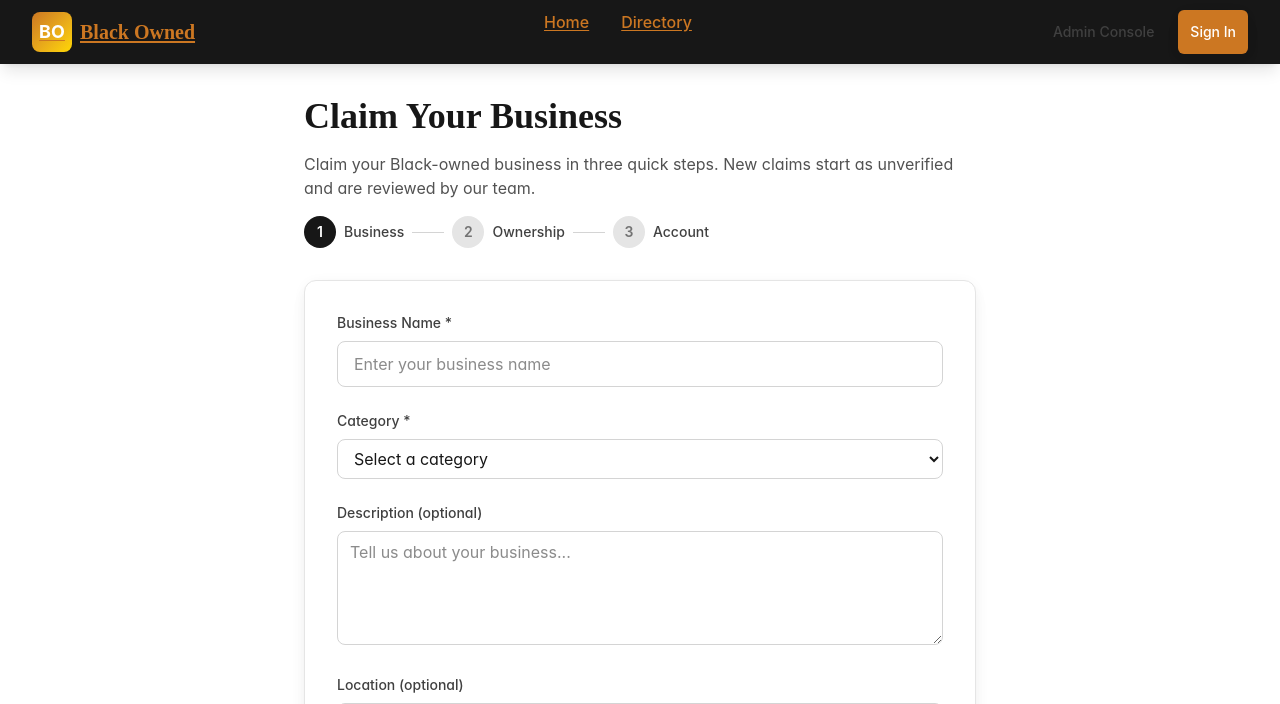
Scenario: ClaimBusinessPage › asks for an account when there is no session
Type "Soul Kitchen" into the field labelled "Business Name *" at x=640, y=364, box [337,341,943,387]
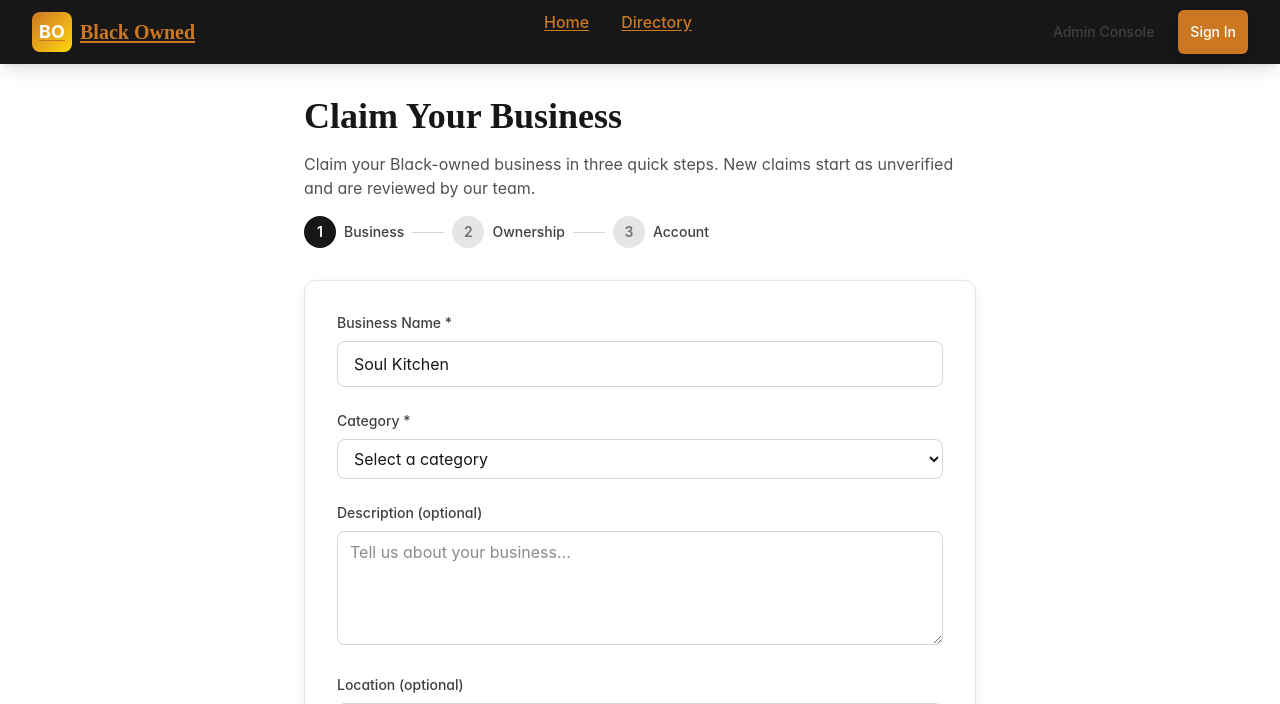
Select "Food & Dining" in the dropdown labelled "Category *" at x=640, y=459, box [337,439,943,479]
(page scrolled)
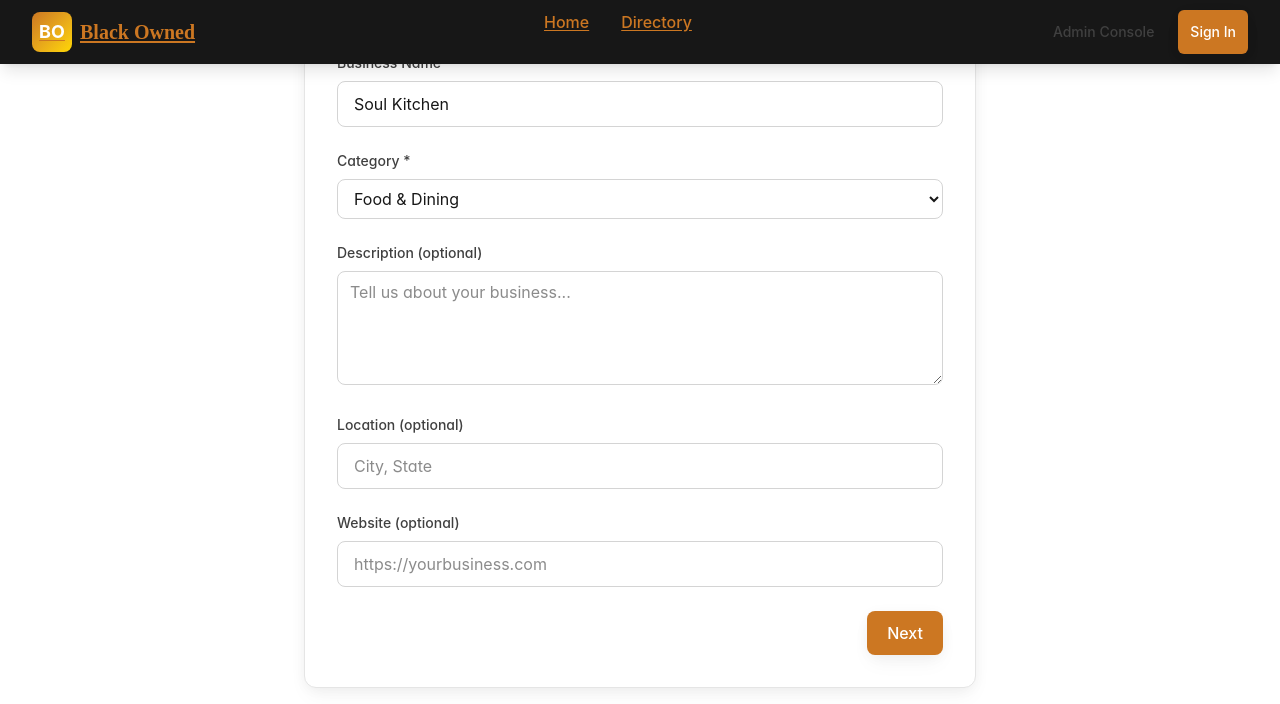
Now the button "Next" is enabled
Click the button "Next" at x=905, y=633, box [867,611,943,655]
(page scrolled)
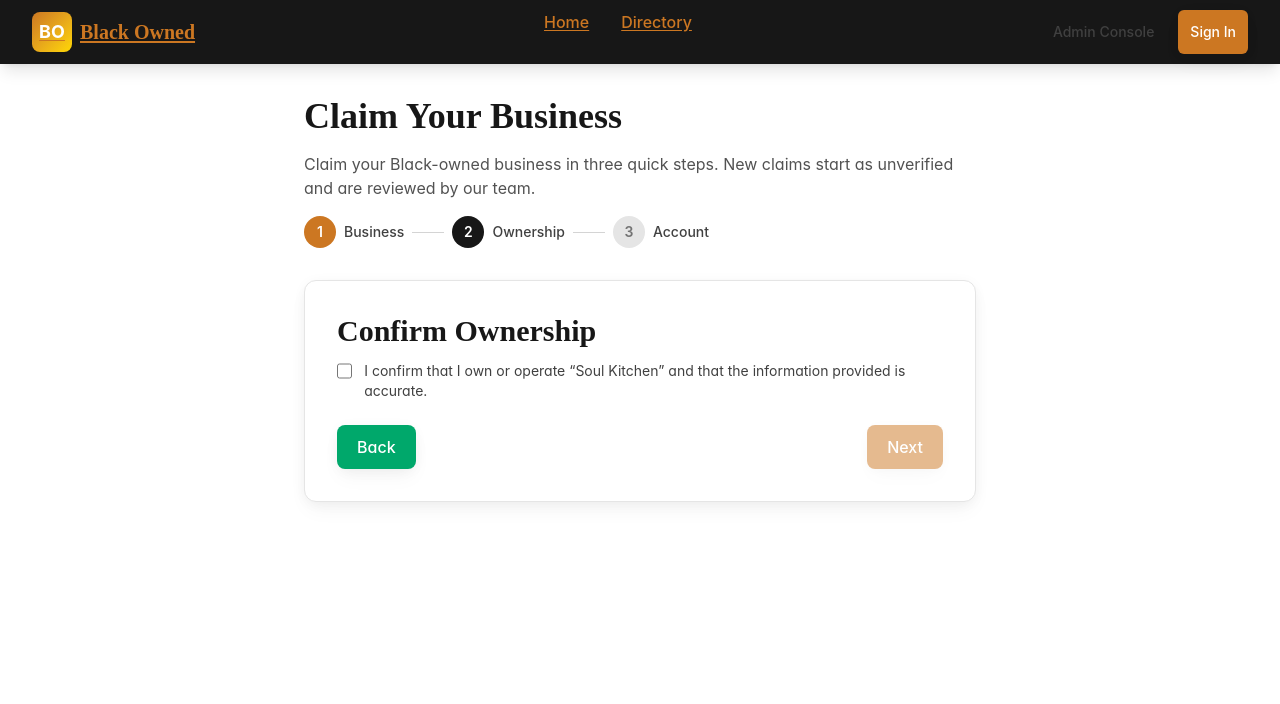
Now the text "I own or operate" is shown, box [364,362,575,379]
Click the checkbox labelled "I confirm that I own or operate" at x=345, y=371, box [337,363,352,379]
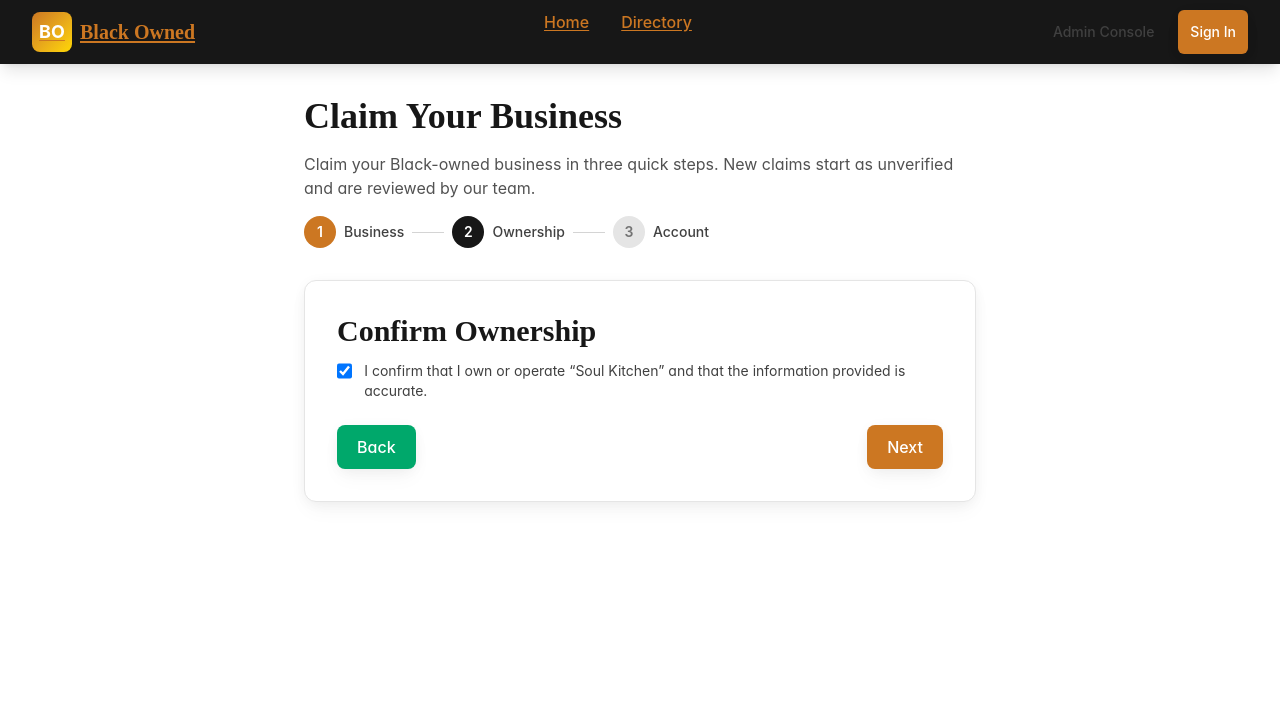
Click the button "Next" at x=905, y=447, box [867,425,943,469]
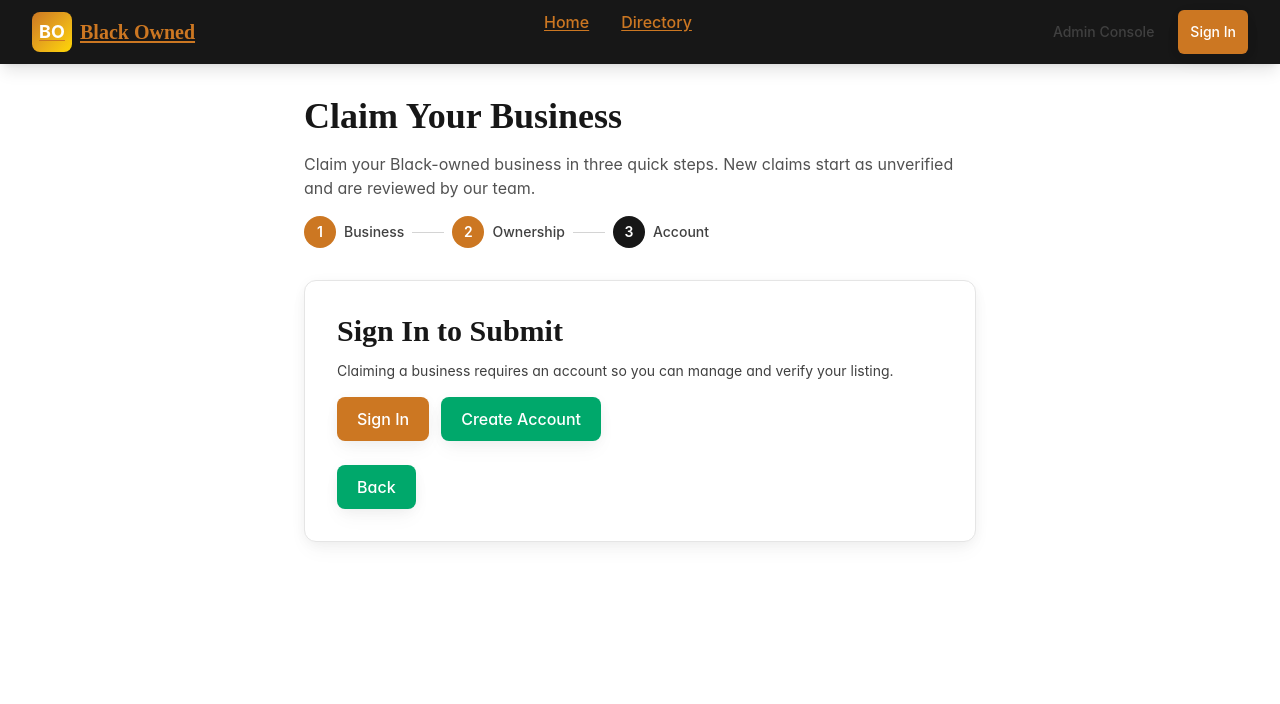
Now the heading "Sign In to Submit" is shown, box [337,314,563,347]
